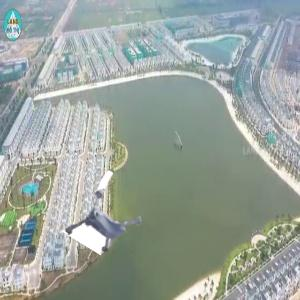drone: (76, 176, 160, 260)
